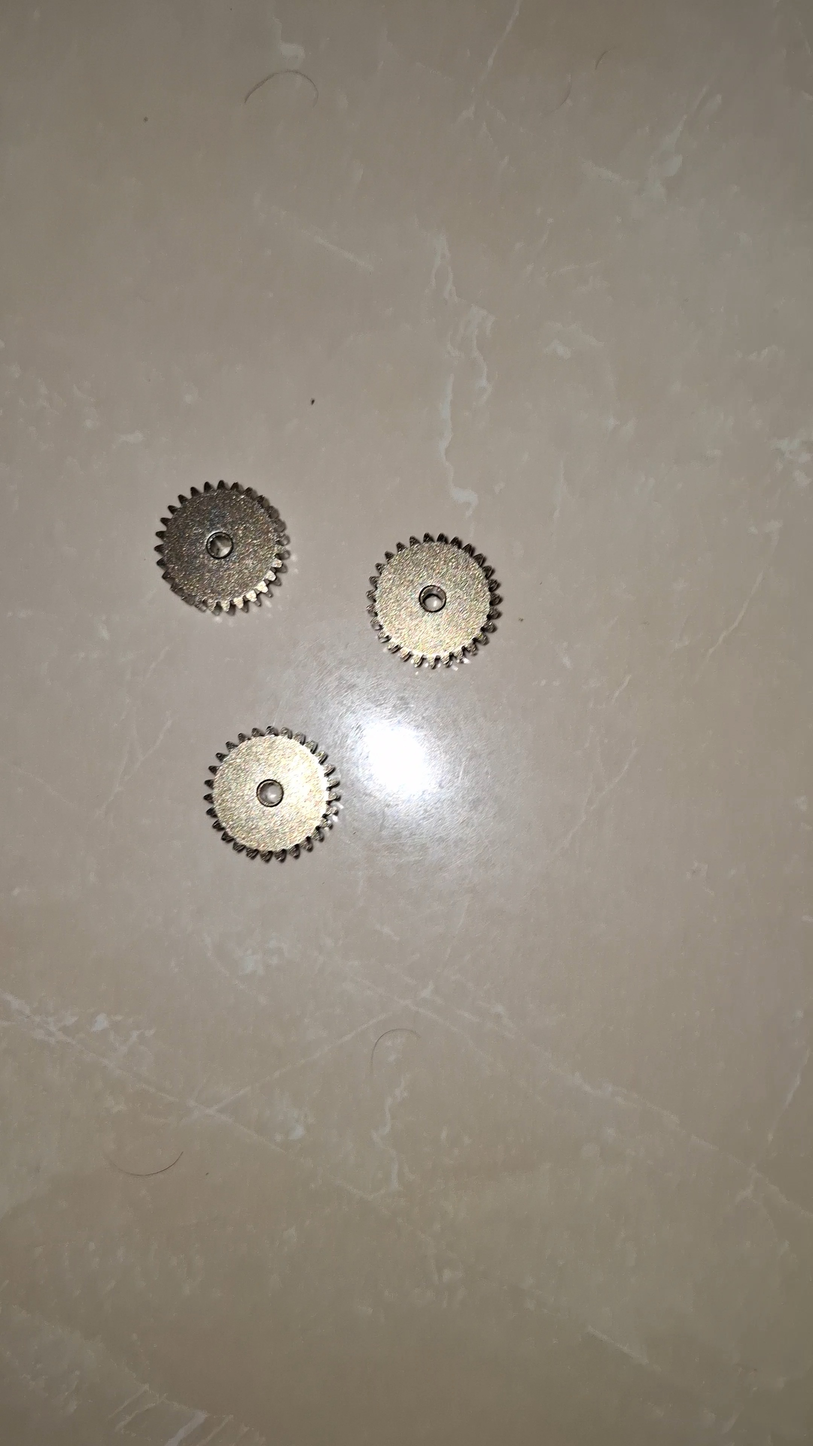spur gear: (205, 727, 339, 861), (368, 534, 501, 667), (156, 481, 288, 612)
